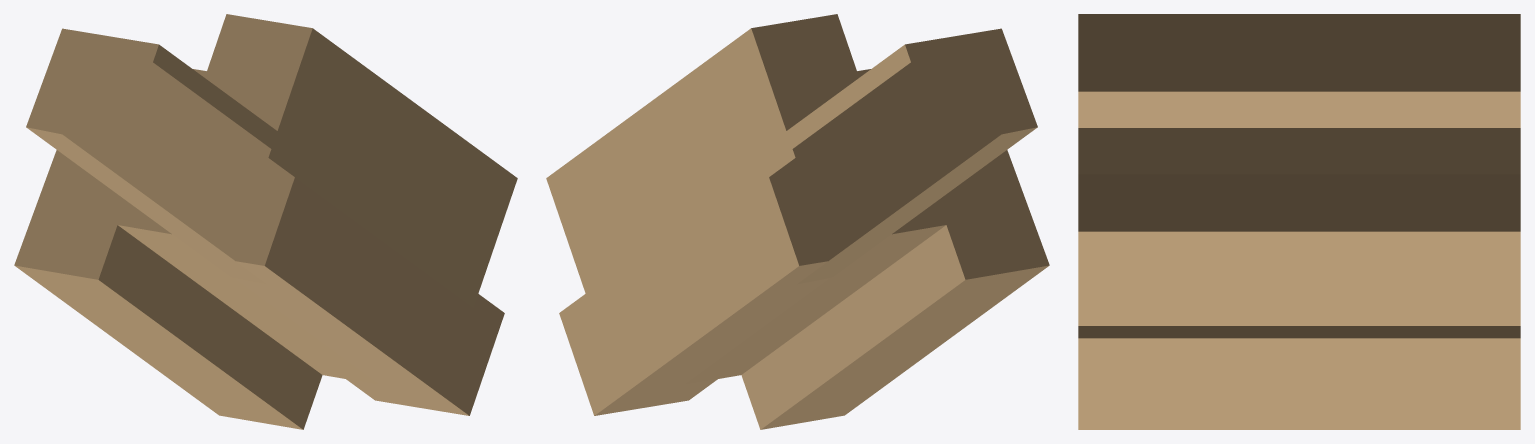
The picture shows the model from 3 angles, left to right: view 1: azimuth 30°, elevation 25°; view 2: azimuth 150°, elevation 25°; view 3: azimuth 270°, elevation 25°; orthographic projection. The views are drawn at different scales.
Parts seen in each view (by area): view 1: 0_0_3_1_3_1_2_3_2; view 2: 0_0_3_1_3_1_2_3_2; view 3: 0_0_3_1_3_1_2_3_2.
Part boxes in pixels (x1=…): 0_0_3_1_3_1_2_3_2: x1=14, y1=14, x2=517, y2=429; 0_0_3_1_3_1_2_3_2: x1=546, y1=14, x2=1049, y2=429; 0_0_3_1_3_1_2_3_2: x1=1078, y1=14, x2=1520, y2=429.
Size of the model in its own units: 20.18 by 18.52 by 24.
